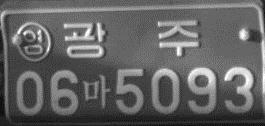0: (150, 67, 181, 116), (14, 69, 43, 116)
3: (222, 65, 255, 115)
5: (114, 67, 145, 116)
6: (49, 69, 80, 116)
9: (186, 66, 217, 115)
광주_D: (62, 19, 200, 58)
마: (81, 74, 110, 109)
영: (12, 21, 52, 61)
